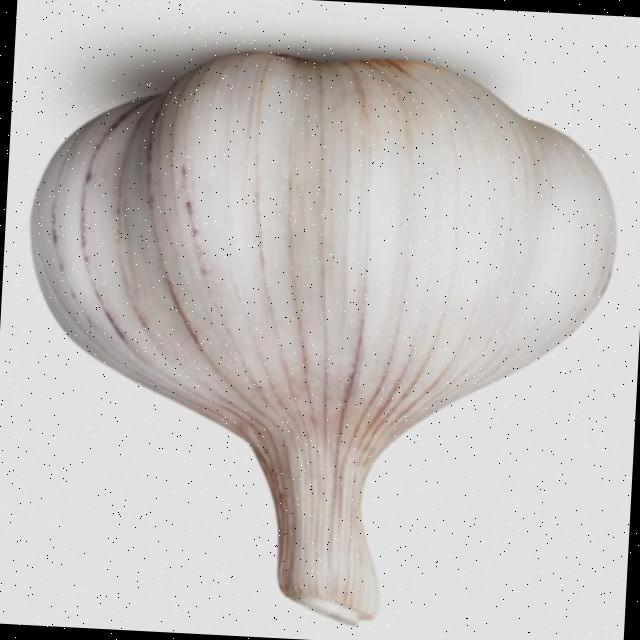garlic: (30, 53, 614, 622)
